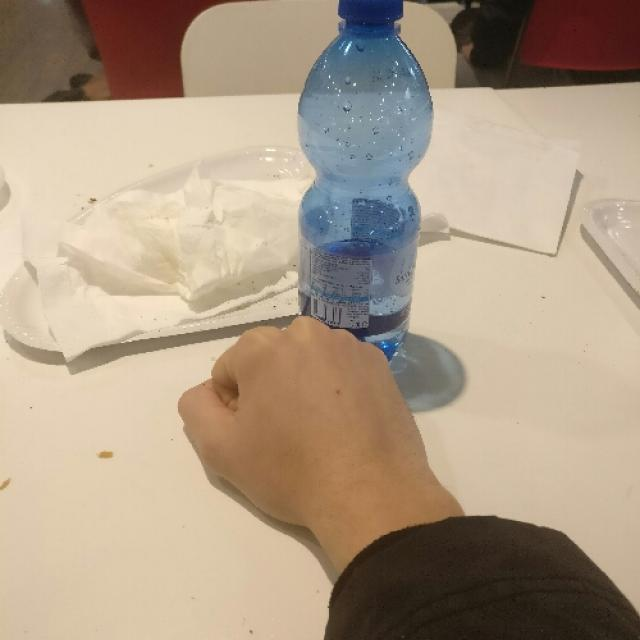fist: (172, 304, 448, 522)
